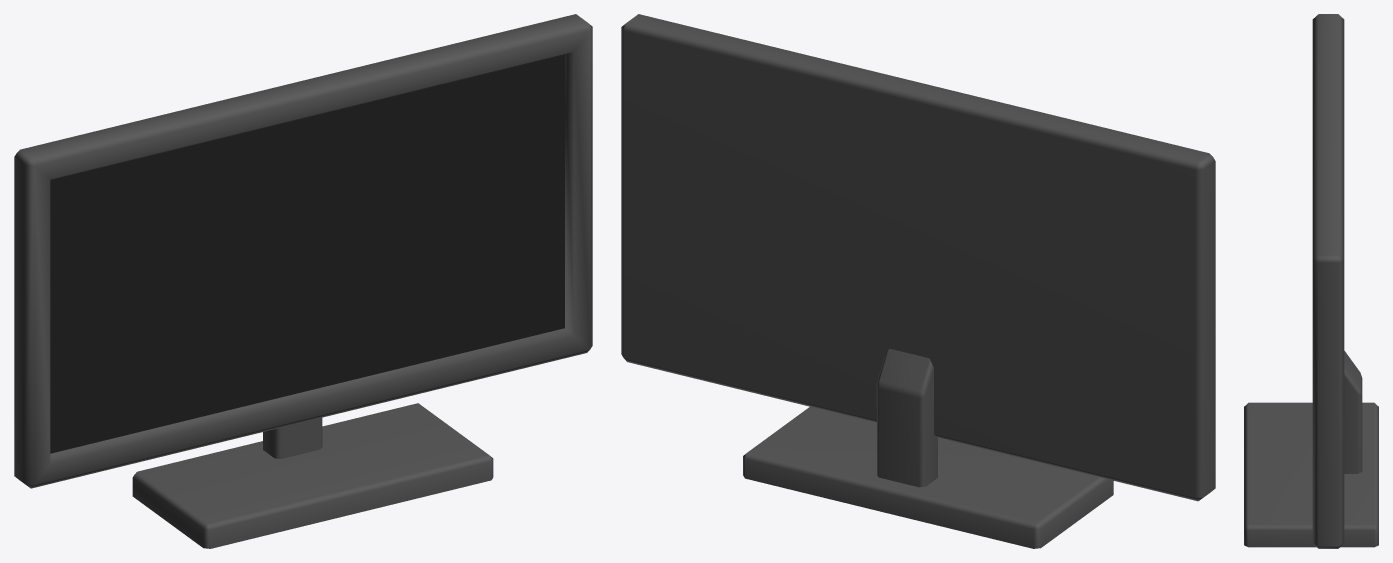
File: electronics_025.fbx
3 renders of one model, left to right at view 1: azimuth 30°, elevation 25°; view 2: azimuth 150°, elevation 25°; view 3: azimuth 270°, elevation 25°, orthographic. The views are drawn at different scales.
Parts seen in each view (by area): view 1: electronics_025; view 2: electronics_025; view 3: electronics_025.
Part boxes in pixels (x1,y1,x2,y2): electronics_025: [14, 14, 592, 548]; electronics_025: [621, 14, 1215, 548]; electronics_025: [1244, 14, 1378, 548].
Size of the model in its own units: 161 by 37.33 by 107.
